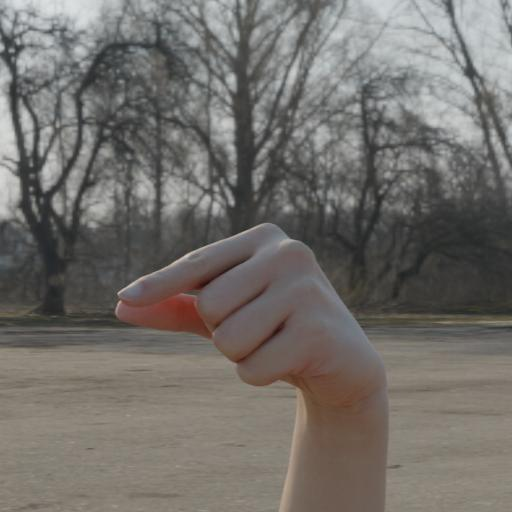G: (95, 191, 419, 512)
